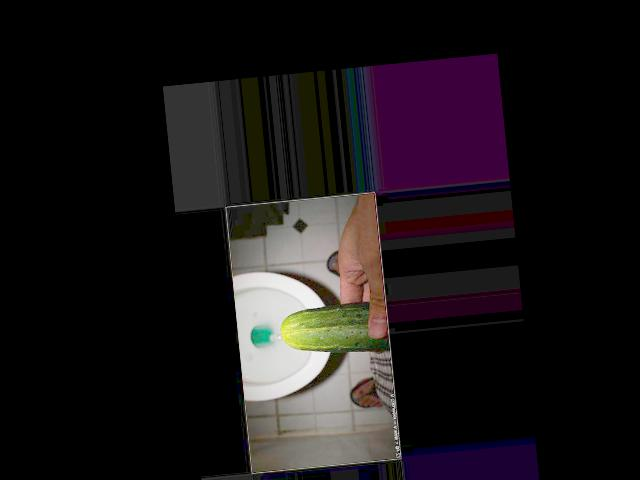cucumber: (278, 300, 391, 361)
